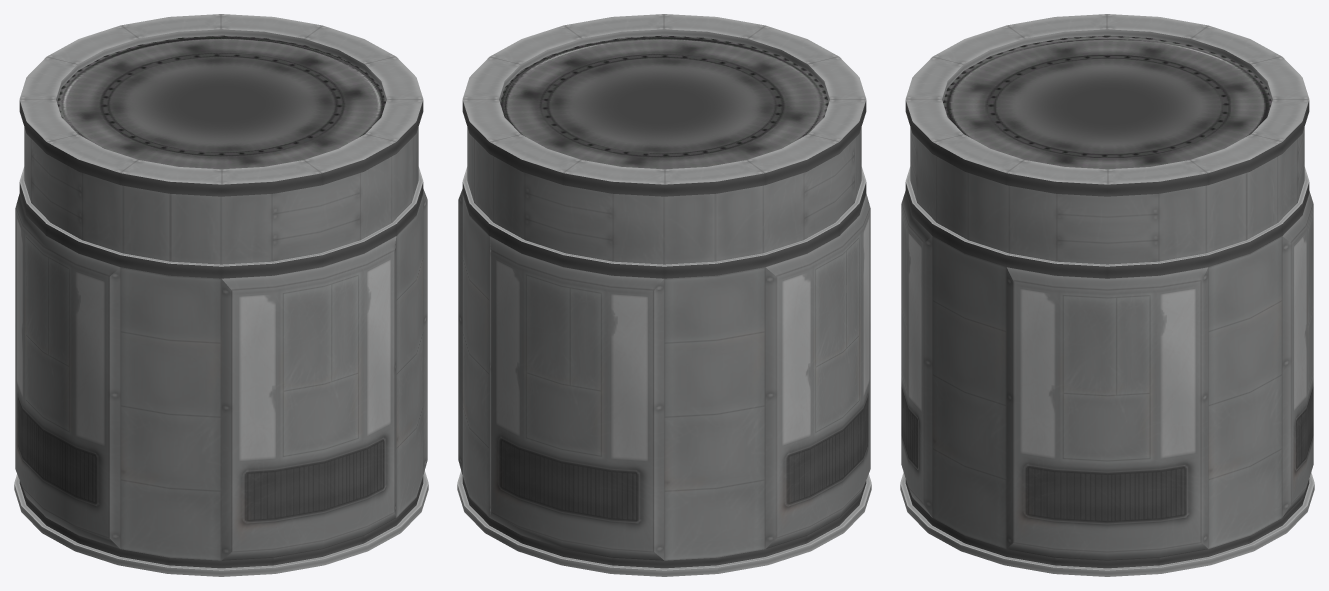
The model's file is Malhena_ServiceTank.dae.
3 renders of one model, left to right at view 1: azimuth 30°, elevation 25°; view 2: azimuth 150°, elevation 25°; view 3: azimuth 270°, elevation 25°, orthographic.
Visible parts, largest first — view 1: Gemini_SM_FuelTank2, polySurface22; view 2: Gemini_SM_FuelTank2, polySurface22; view 3: Gemini_SM_FuelTank2, polySurface22.
Boxes of the visible parts, x1,y1,x2,y2 form: Gemini_SM_FuelTank2: (14,14,428,576); polySurface22: (57,35,385,169); Gemini_SM_FuelTank2: (457,14,871,576); polySurface22: (500,35,828,169); Gemini_SM_FuelTank2: (900,14,1314,576); polySurface22: (943,35,1271,169).
Size of the model in its own units: 1.54 by 1.6 by 1.54.
